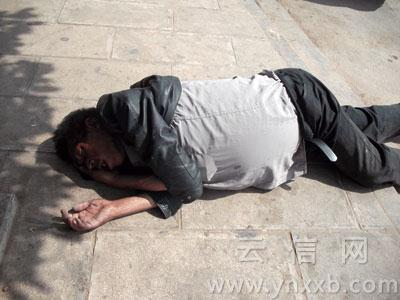fall: (36, 56, 400, 242)
